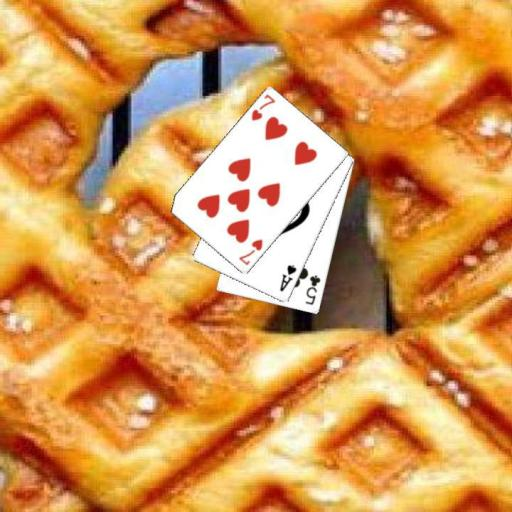5C: (302, 273, 322, 307)
7H: (236, 236, 265, 267), (248, 91, 277, 122)
AS: (277, 262, 298, 293)
